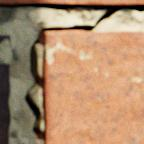brick: (40, 30, 143, 143), (0, 35, 10, 143), (0, 0, 143, 4)
crack: (0, 2, 143, 143)
